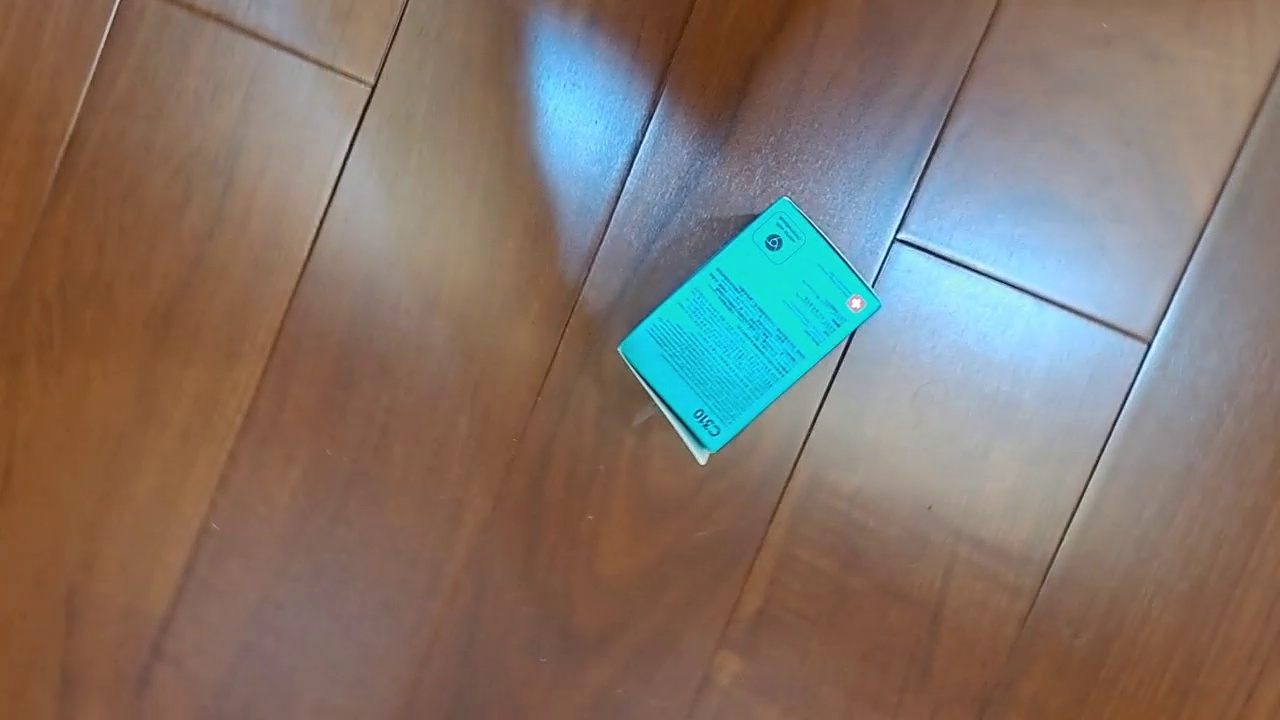webcam: (615, 194, 884, 466)
